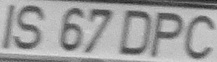6: (56, 5, 85, 52)
7: (85, 5, 112, 55)
C: (183, 13, 215, 60)
D: (117, 6, 150, 57)
I: (2, 2, 17, 51)
P: (148, 9, 183, 60)
S: (15, 4, 44, 50)
